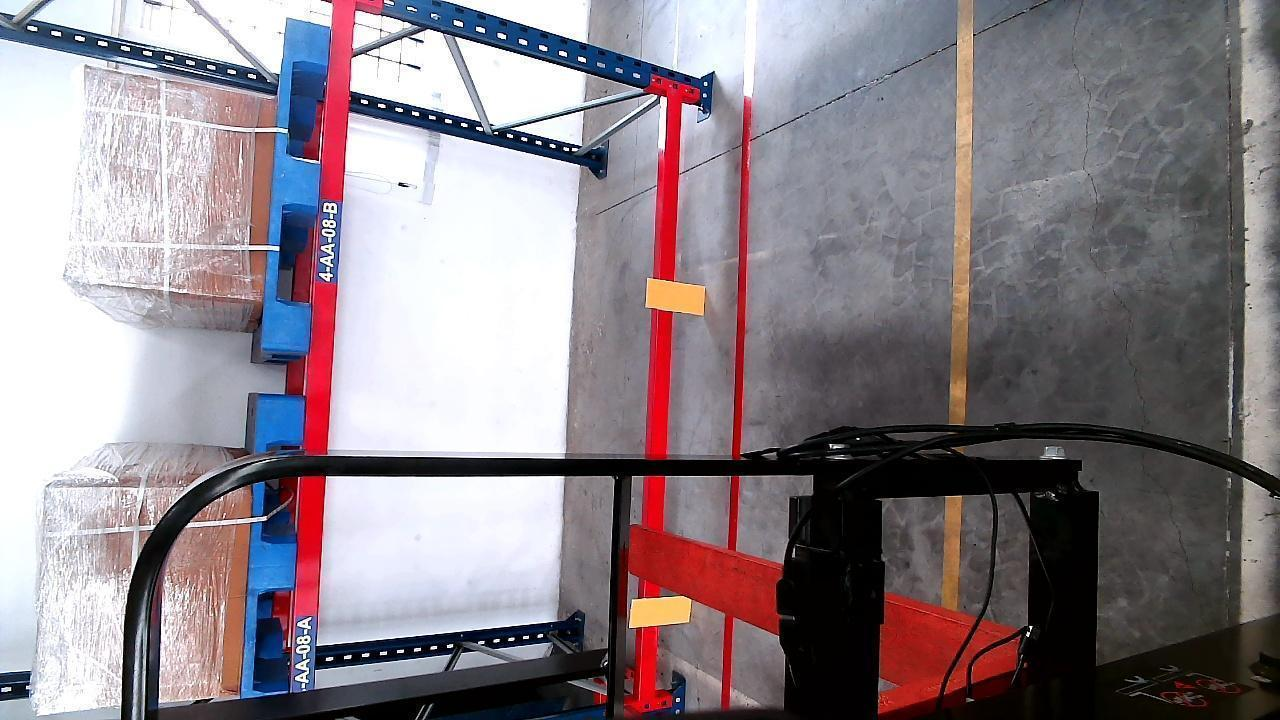red_line: (723, 42, 756, 716)
yellow_line: (939, 0, 975, 613)
